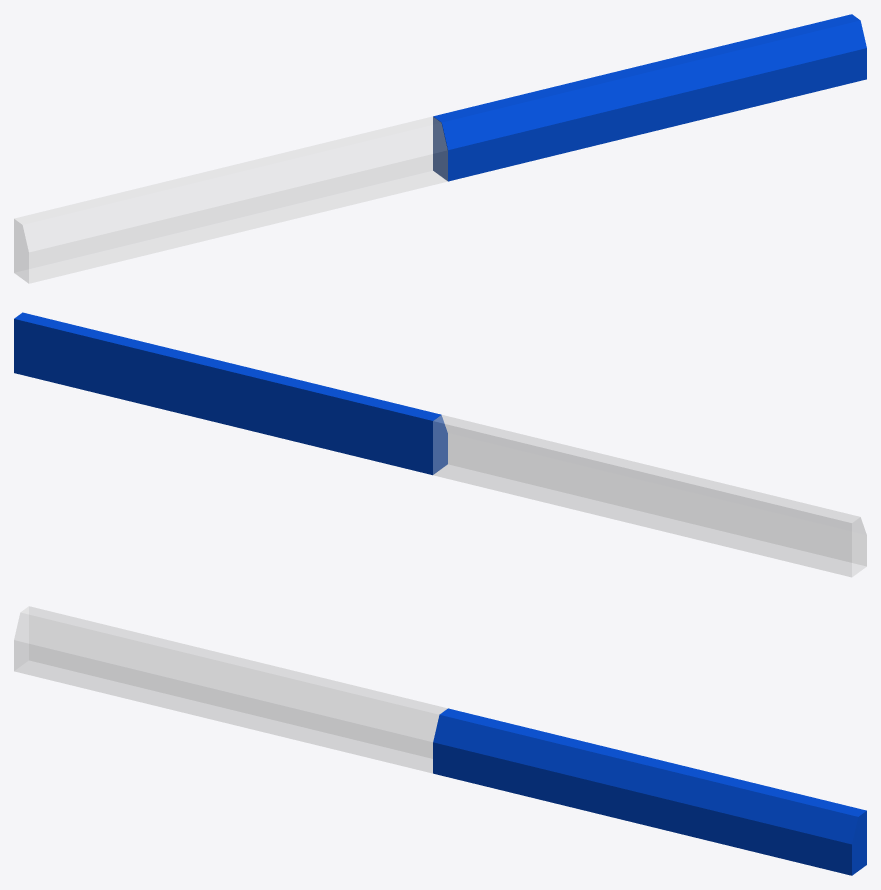
File: walltrack.glb
The picture shows the model from 3 angles, top to bottom: view 1: azimuth 30°, elevation 25°; view 2: azimuth 150°, elevation 25°; view 3: azimuth 330°, elevation 25°; orthographic projection.
Visible parts, largest first — view 1: Cube001_1, Cube001; view 2: Cube001_1, Cube001; view 3: Cube001_1, Cube001.
Boxes of the visible parts, bbox=[...] form: Cube001_1: bbox=[433, 14, 866, 181]; Cube001: bbox=[14, 116, 447, 283]; Cube001_1: bbox=[14, 312, 447, 475]; Cube001: bbox=[433, 415, 866, 577]; Cube001_1: bbox=[433, 708, 866, 875]; Cube001: bbox=[14, 606, 447, 773].
Bounding box in the file's own units: 3.23 × 0.2 × 0.1.
